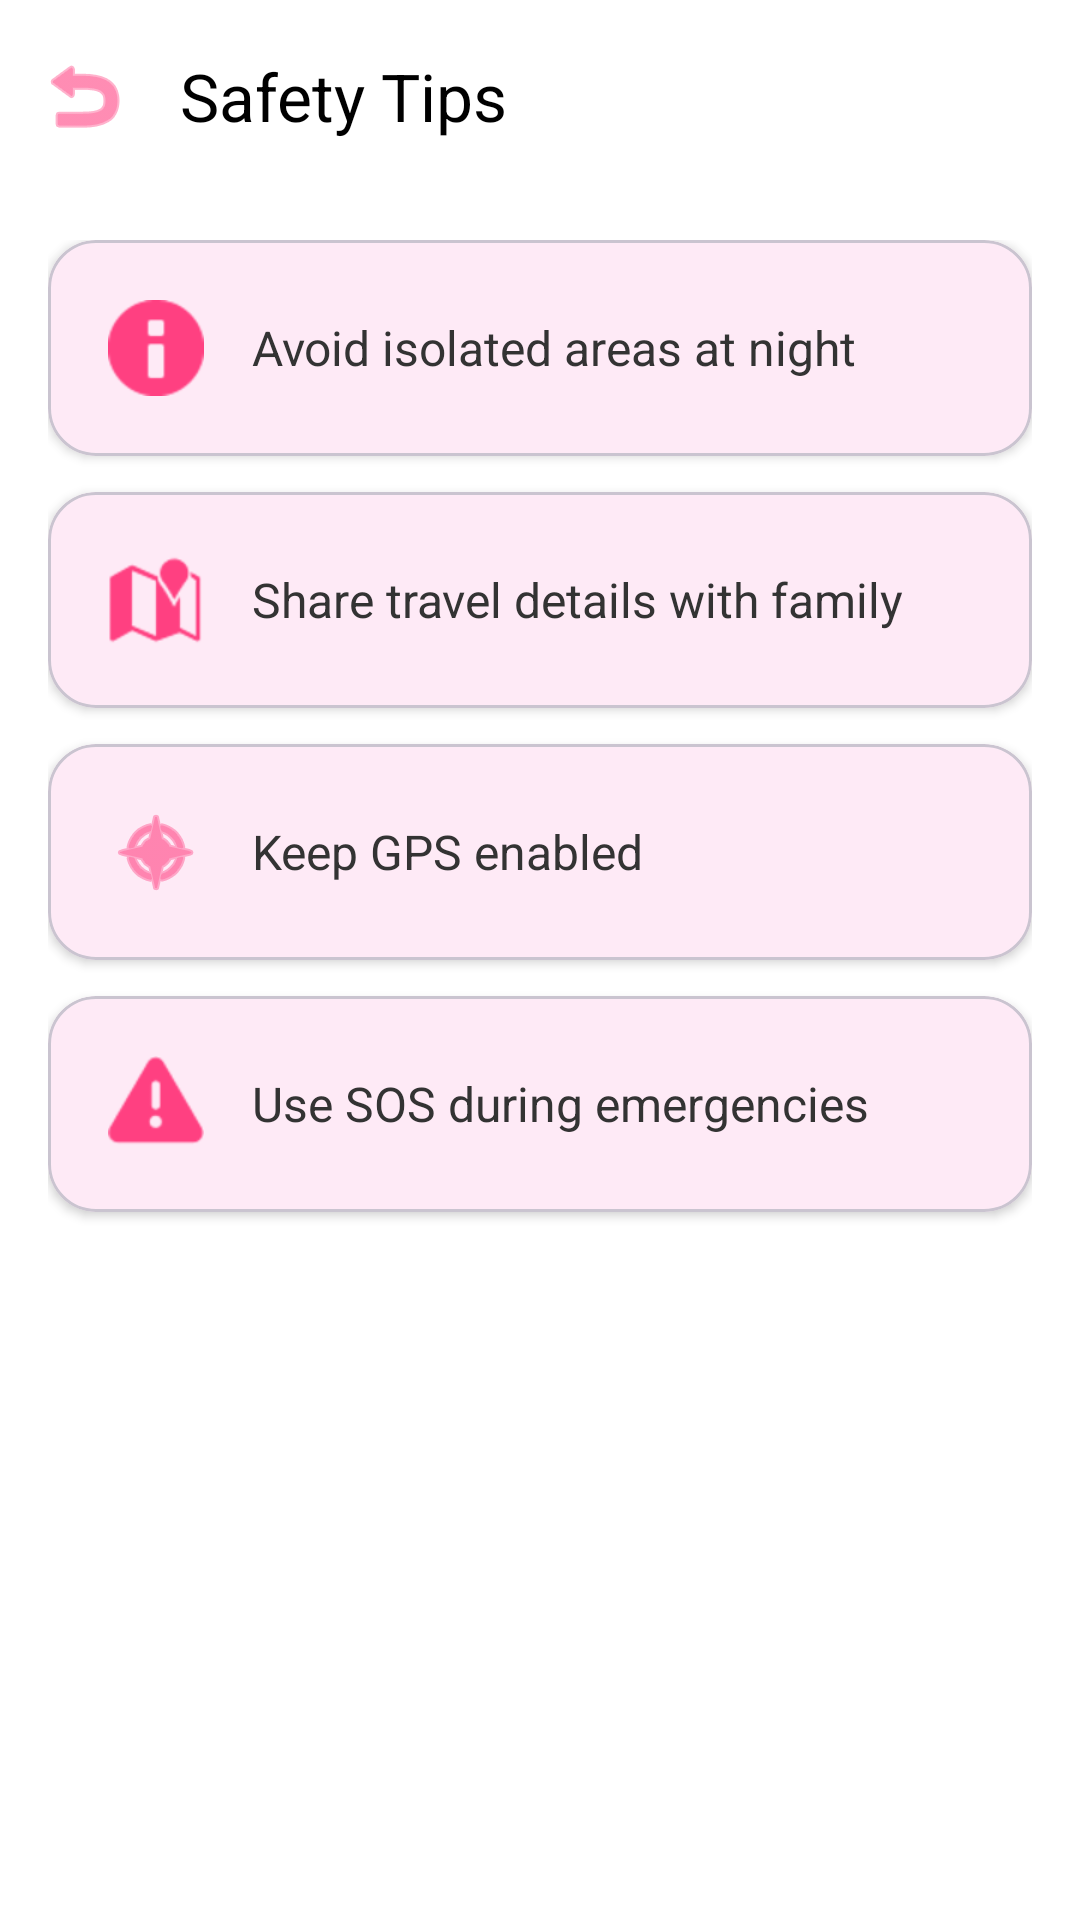

Named icons in this screenshot (1080w x 1920h) and their centers, point (x, y):
alert: point (156, 1100)
info: point (156, 348)
map: point (155, 600)
